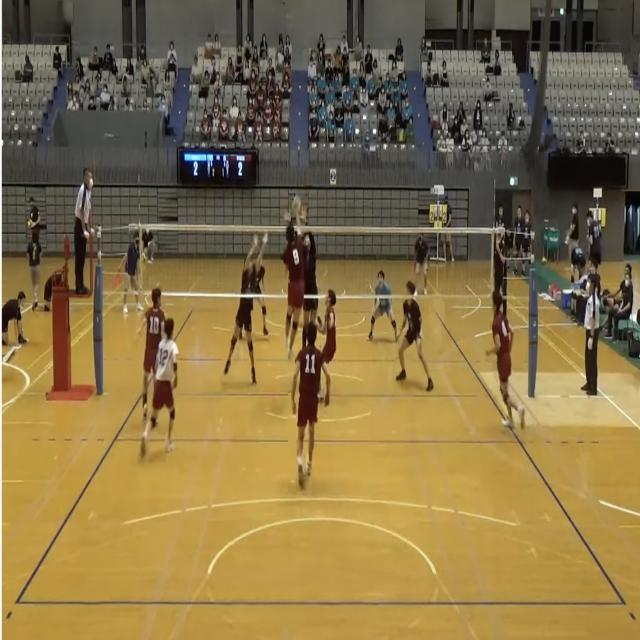spike: (277, 190, 311, 366)
